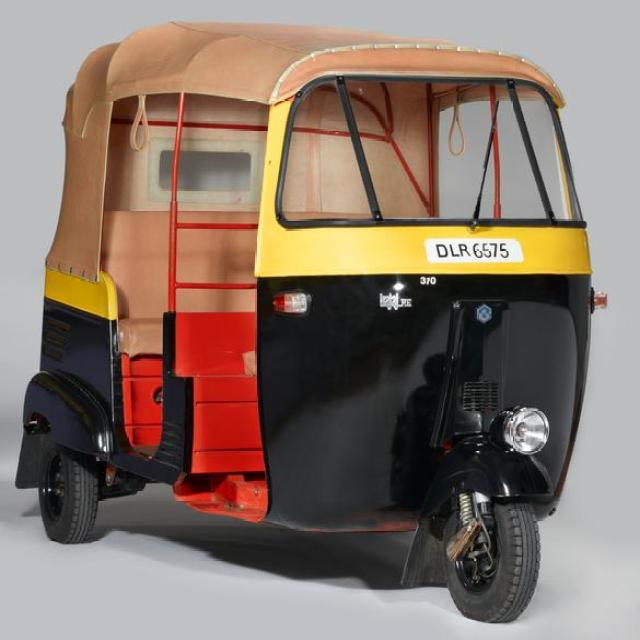autorickshaw: (15, 23, 600, 621)
